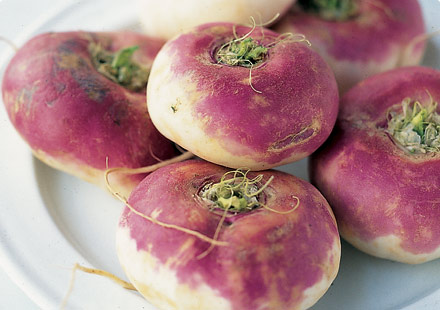turnip: (143, 21, 339, 166), (304, 62, 439, 263)
